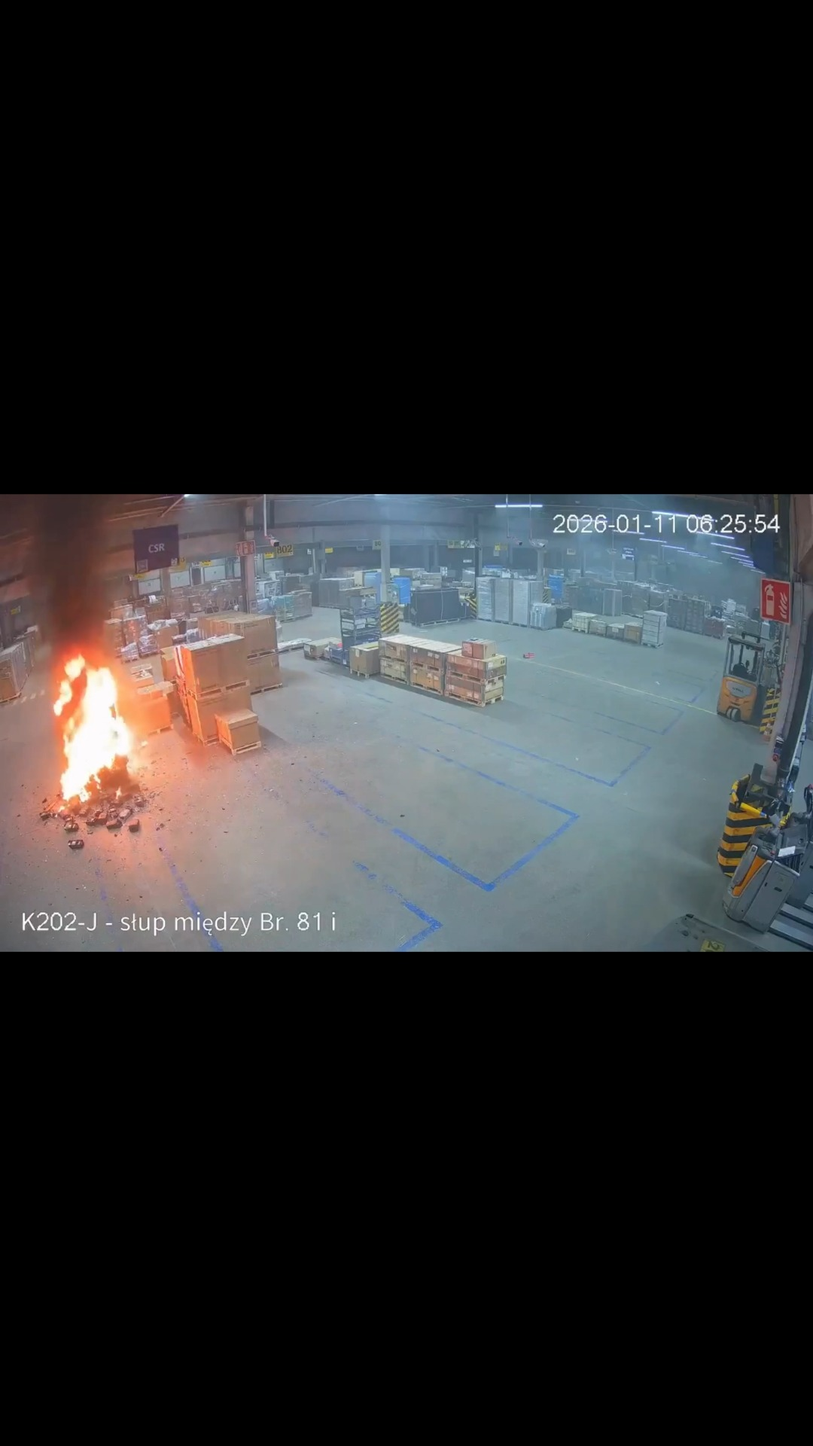fire: (50, 651, 145, 810)
smoke: (0, 495, 141, 673)
